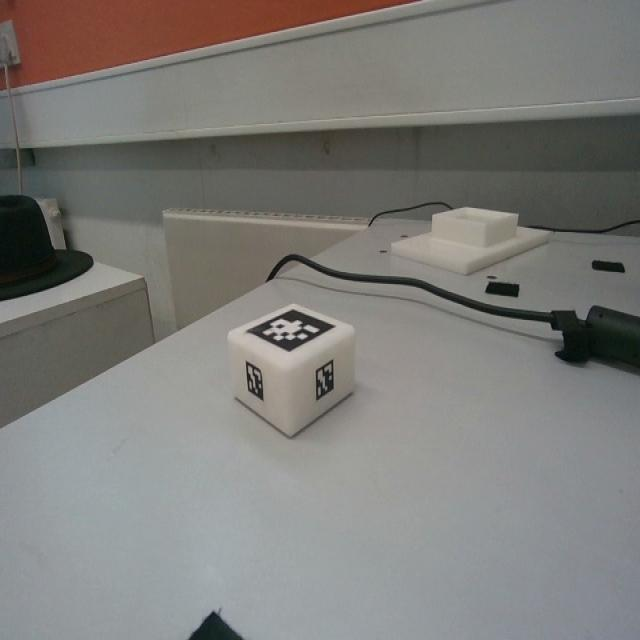Cube: (227, 300, 355, 436)
